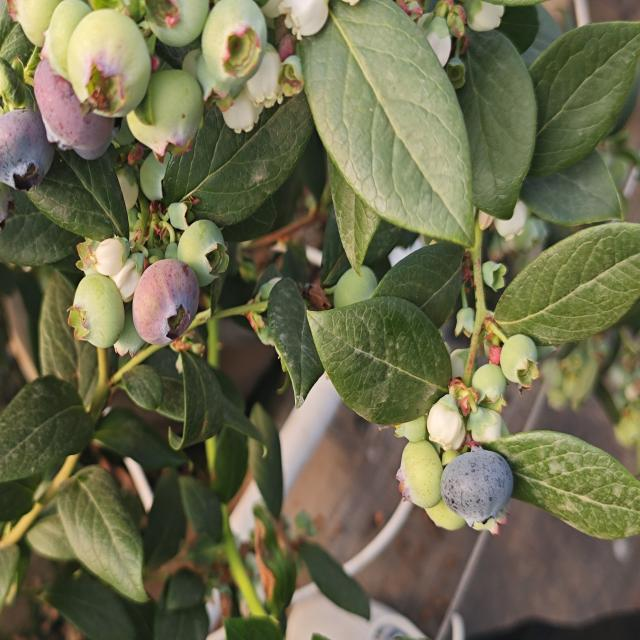ripe: (438, 446, 516, 534), (0, 98, 48, 189)
